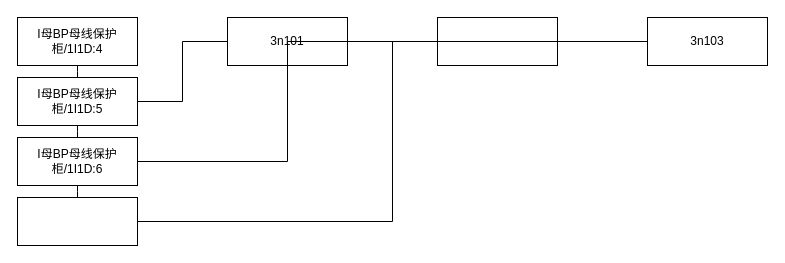
The diagram is 785 pixels wide and 263 high, and some of its shapes have lost their labels. Each missing label, with the box of its shape:
3n102: (436, 16, 558, 66)
I母BP母线保护柜/1I1D:7: (16, 196, 138, 246)
